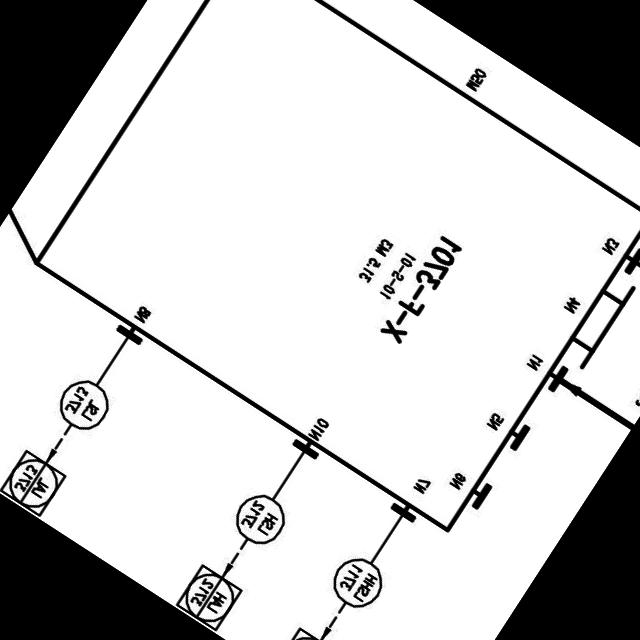X: (0, 0, 640, 540)
